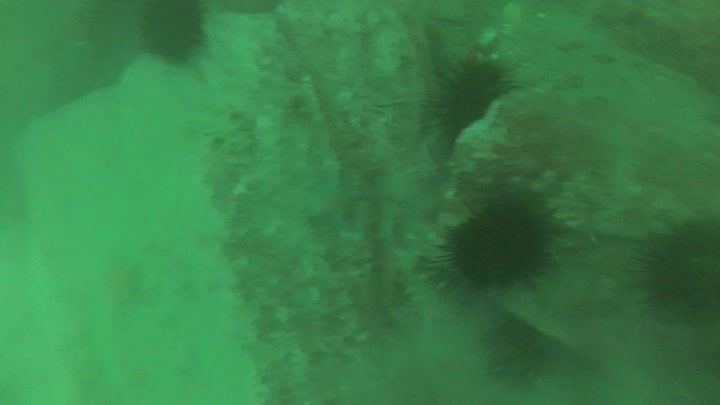echinus: (412, 51, 527, 164), (431, 193, 560, 289), (632, 210, 720, 321), (143, 1, 207, 69)
